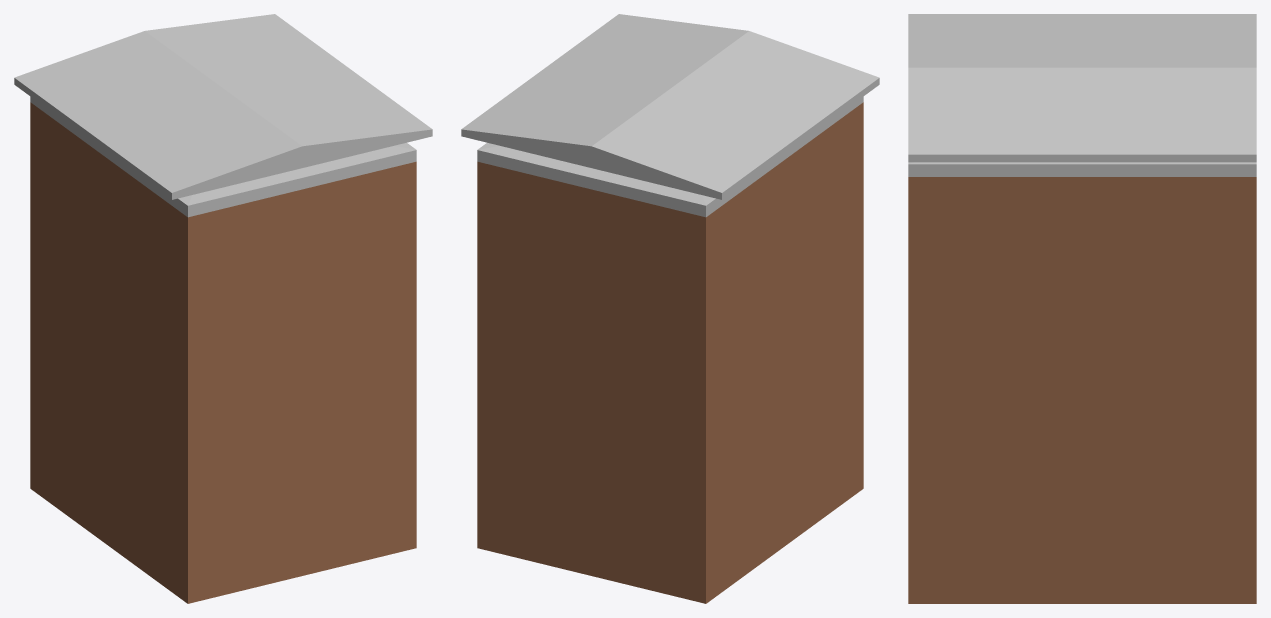
Rendered from casa3.fbx.
3 renders of one model, left to right at view 1: azimuth 30°, elevation 25°; view 2: azimuth 150°, elevation 25°; view 3: azimuth 270°, elevation 25°, orthographic. The views are drawn at different scales.
Visible parts, largest first — view 1: Cube.003; view 2: Cube.003; view 3: Cube.003.
Part boxes in pixels (bbox=[...]): Cube.003: bbox=[14, 14, 432, 603]; Cube.003: bbox=[461, 14, 879, 603]; Cube.003: bbox=[908, 14, 1256, 603].
Size of the model in its own units: 149 by 234 by 156.
